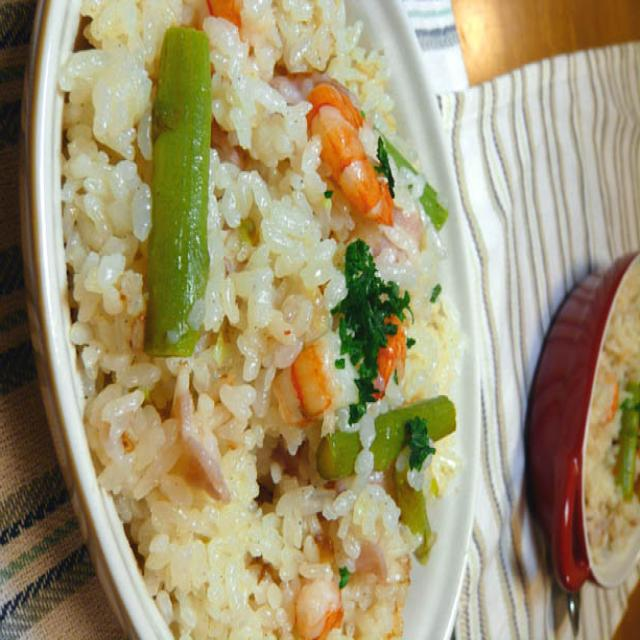米饭主食: (0, 196, 480, 640)
